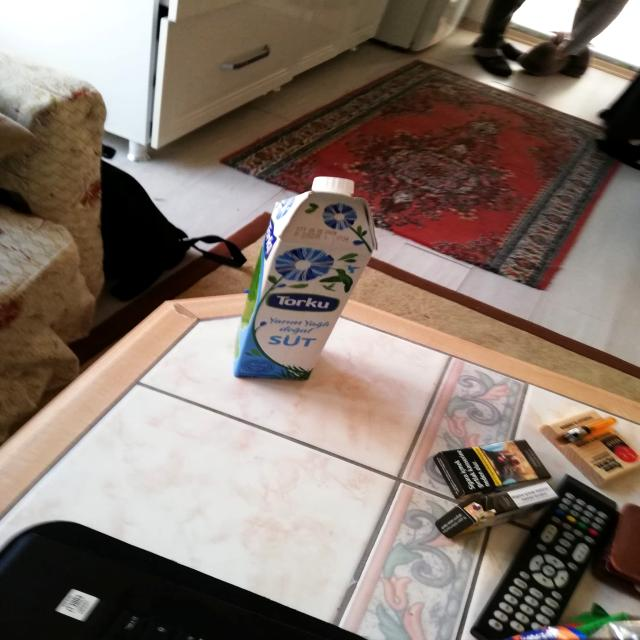milk: (236, 173, 376, 382)
